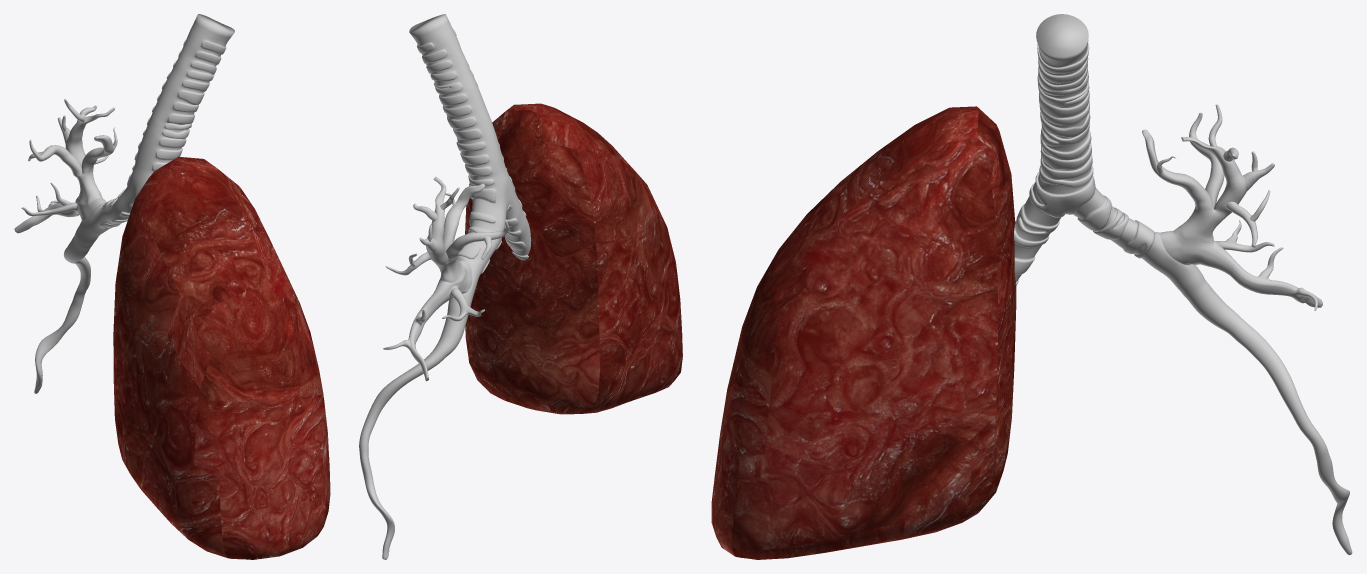
Rendered from pourondroit_.fbx.
The picture shows the model from 3 angles, left to right: view 1: azimuth 30°, elevation 25°; view 2: azimuth 150°, elevation 25°; view 3: azimuth 270°, elevation 25°; orthographic projection. The views are drawn at different scales.
Visible parts, largest first — view 1: Respiratoy_Trachea_Geo; view 2: Respiratoy_Trachea_Geo; view 3: Respiratoy_Trachea_Geo.
Boxes of the visible parts, x1,y1,x2,y2 form: Respiratoy_Trachea_Geo: (14, 14, 330, 559); Respiratoy_Trachea_Geo: (359, 14, 682, 559); Respiratoy_Trachea_Geo: (711, 14, 1352, 559).
Bounding box in the file's own units: 156 × 405 × 409.
